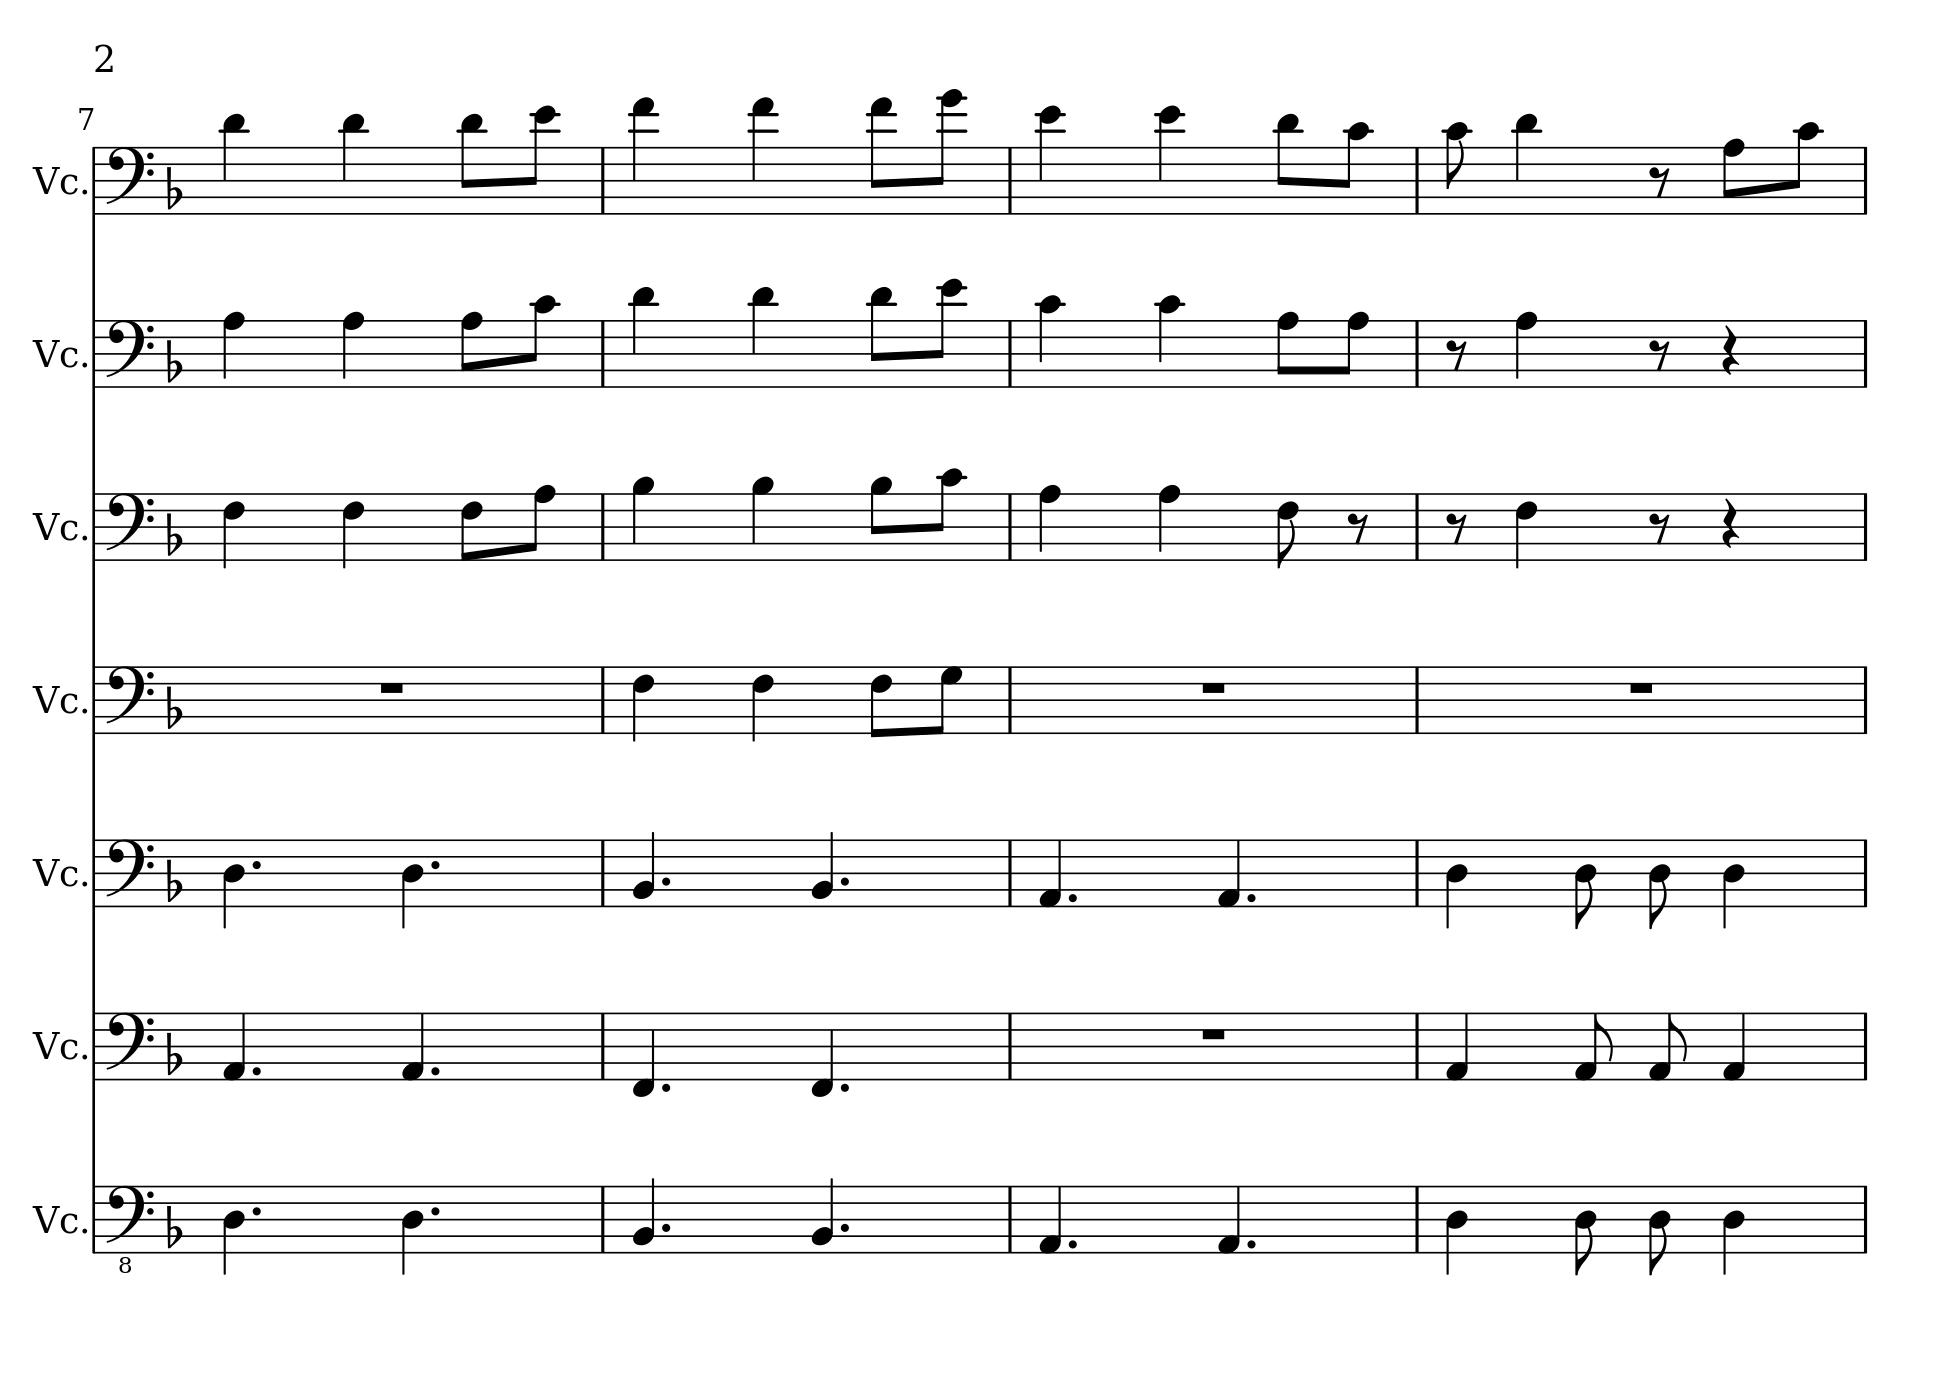2: (91, 40, 115, 73)
4_-1: (808, 1008, 835, 1098), (630, 1009, 657, 1098)
4_1: (220, 1009, 247, 1081), (1038, 1183, 1065, 1255), (1038, 838, 1065, 909), (400, 1009, 426, 1081), (1722, 1009, 1747, 1081), (1216, 838, 1242, 909), (1446, 1011, 1471, 1081), (1218, 1183, 1242, 1255)
4_10: (1036, 292, 1065, 391), (1156, 292, 1183, 390)
4_11: (628, 285, 657, 390), (748, 283, 777, 388), (220, 111, 247, 217)
4_12: (1036, 103, 1065, 217), (1156, 103, 1185, 216)
4_13: (628, 96, 657, 217), (748, 96, 777, 217)
4_2: (810, 828, 837, 910), (631, 828, 658, 909), (631, 1174, 657, 1255), (811, 1174, 837, 1255)
4_4: (220, 835, 247, 930), (1443, 835, 1470, 930), (1720, 837, 1747, 928), (220, 1183, 246, 1276), (1722, 1183, 1747, 1276), (400, 837, 426, 928), (1444, 1183, 1470, 1275), (400, 1183, 424, 1276)
4_6: (220, 490, 249, 570), (340, 490, 367, 568), (1513, 490, 1539, 570), (750, 663, 775, 742), (631, 663, 655, 742)
4_8: (220, 310, 250, 390), (340, 309, 367, 390), (1036, 483, 1063, 562), (1513, 309, 1539, 390), (1156, 483, 1182, 562)
4_9: (630, 474, 655, 562), (750, 474, 775, 562)
7: (76, 103, 94, 130)
8_1: (1573, 1009, 1615, 1081), (1647, 1009, 1689, 1081)
8_10: (1335, 120, 1371, 217), (522, 292, 556, 390), (928, 466, 963, 562), (1786, 120, 1819, 216), (1444, 121, 1471, 216)
8_11: (1513, 109, 1540, 217), (340, 111, 367, 217), (459, 109, 486, 216), (1275, 109, 1302, 214), (868, 283, 895, 388)
8_12: (927, 276, 964, 390), (523, 102, 559, 217)
8_13: (865, 96, 895, 217)
8_14: (928, 87, 964, 216)
8_4: (1647, 837, 1672, 931), (1647, 1182, 1672, 1276), (1573, 837, 1599, 930), (1573, 1183, 1599, 1276)
8_6: (1275, 490, 1300, 570), (868, 663, 894, 738), (460, 490, 484, 562)
8_7: (930, 664, 964, 736)
8_8: (1335, 310, 1369, 388), (523, 483, 556, 562), (1720, 136, 1746, 216), (1275, 310, 1300, 390), (459, 310, 484, 388)
8_9: (868, 474, 892, 562)
Fclef: (103, 145, 156, 217)
Flat: (103, 318, 156, 391), (103, 490, 156, 562), (103, 664, 156, 736), (103, 837, 156, 909), (103, 1009, 154, 1081), (163, 163, 184, 211), (163, 682, 184, 730), (163, 337, 184, 384), (163, 1029, 184, 1075), (163, 510, 183, 556), (163, 1203, 183, 1249), (163, 856, 183, 901)
Lower_Fclef: (105, 1182, 156, 1273)
Rests1: (1198, 678, 1230, 696), (1626, 678, 1657, 696), (1198, 1024, 1230, 1042), (376, 678, 406, 696)
Rests4: (1719, 322, 1740, 378), (1720, 496, 1740, 550)
Rests8: (1647, 510, 1672, 546), (1647, 337, 1672, 372), (1446, 510, 1470, 546), (1446, 337, 1470, 372), (1347, 510, 1371, 544), (1648, 163, 1671, 198)
Single_barline: (592, 666, 613, 732), (594, 492, 613, 559), (594, 319, 613, 385), (85, 319, 103, 388), (1857, 664, 1875, 733), (85, 838, 103, 907), (1857, 319, 1875, 387), (1002, 492, 1020, 559), (85, 493, 103, 561), (1002, 838, 1020, 906), (85, 1012, 103, 1080), (594, 145, 612, 211), (1002, 319, 1020, 385), (1408, 319, 1426, 385), (1857, 493, 1875, 559), (1002, 666, 1020, 732), (85, 667, 103, 733), (1410, 1012, 1428, 1078), (1002, 1186, 1020, 1252), (1002, 147, 1020, 211), (1857, 145, 1873, 213), (1857, 838, 1873, 906), (1410, 838, 1426, 906), (1410, 1185, 1426, 1252), (1857, 1185, 1873, 1252), (1408, 493, 1425, 559), (1410, 667, 1426, 733), (594, 840, 610, 906), (1857, 1012, 1873, 1078), (1002, 1012, 1018, 1078), (87, 1185, 103, 1251), (1408, 147, 1425, 211), (87, 147, 102, 214), (595, 1012, 610, 1078), (595, 1186, 610, 1251)
Vc: (28, 682, 84, 718), (28, 163, 79, 199), (30, 337, 81, 373), (30, 508, 81, 544), (28, 855, 79, 891), (28, 1027, 81, 1062), (28, 1200, 81, 1234)
dot: (427, 856, 442, 871), (249, 856, 262, 871), (658, 874, 673, 888), (427, 1204, 442, 1218), (1065, 1237, 1080, 1251), (1066, 891, 1080, 904), (427, 1063, 441, 1077), (658, 1080, 672, 1093), (658, 1221, 672, 1234), (1245, 889, 1257, 904), (250, 1063, 262, 1078), (837, 874, 850, 886), (838, 1080, 850, 1093), (249, 1204, 262, 1216), (838, 1221, 850, 1234), (1245, 1236, 1257, 1249)
